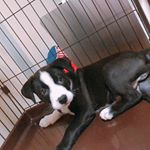puppy: (21, 45, 150, 133)
